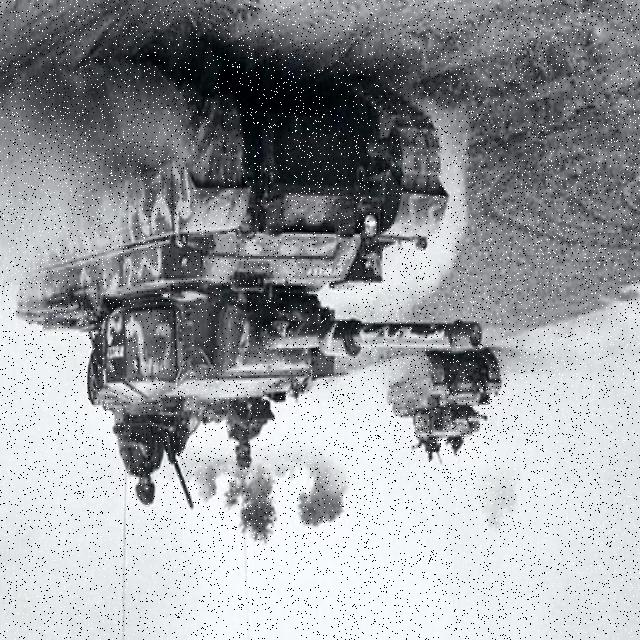MIL_MBT: (23, 103, 484, 410), (390, 362, 505, 452)
